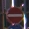No entry: (5, 5, 23, 23)
